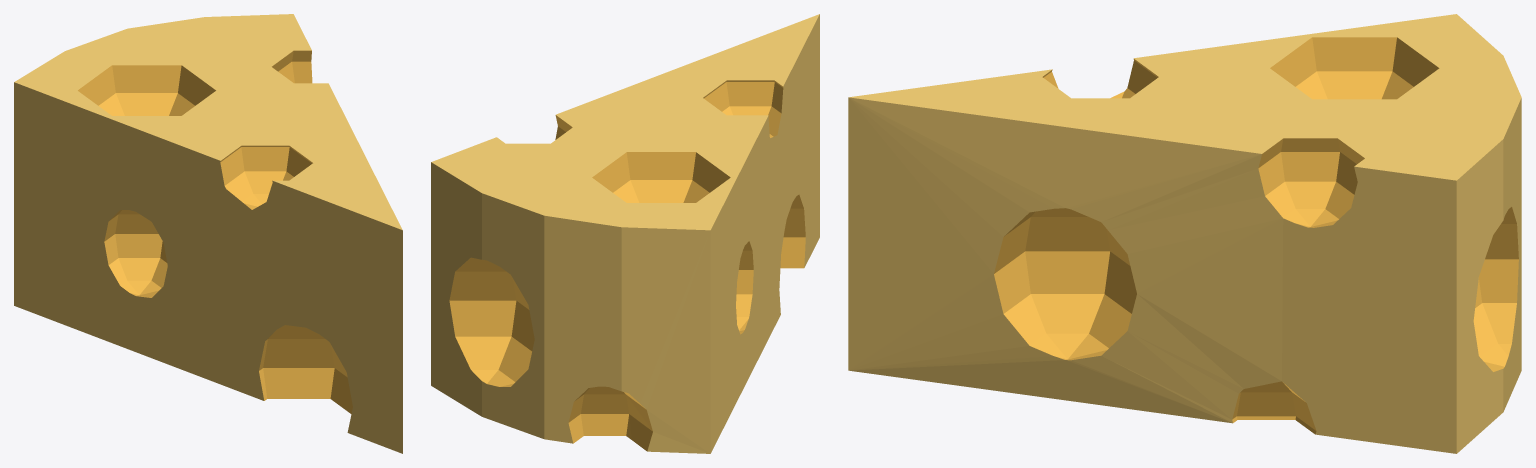
Rendered from Cheese.fbx.
3 views of the same model, side by side, from view 1: azimuth 30°, elevation 25°; view 2: azimuth 150°, elevation 25°; view 3: azimuth 270°, elevation 25° (orthographic). The views are drawn at different scales.
Parts seen in each view (by area): view 1: Cube; view 2: Cube; view 3: Cube.
Part boxes in pixels (x1,y1,x2,y2): Cube: [14, 14, 402, 453]; Cube: [431, 14, 819, 453]; Cube: [848, 14, 1521, 453].
Bounding box in the file's own units: 0.0899 × 0.0688 × 0.1536.
